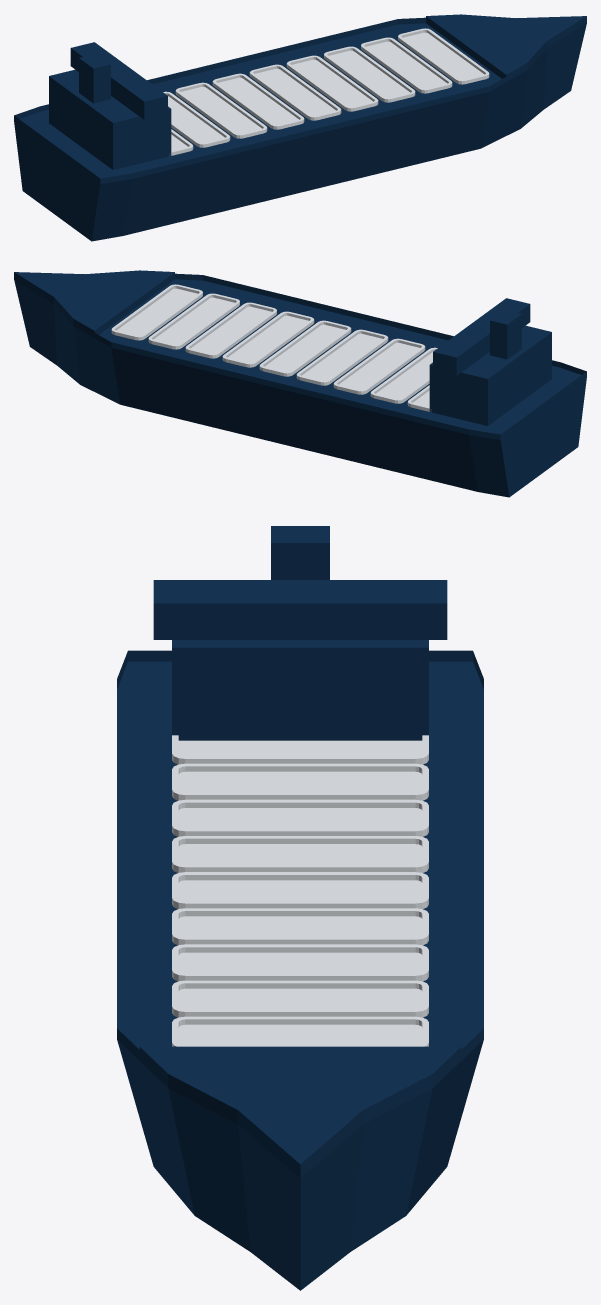
Rendered from vessel-hold-09.glb.
3 views of the same model, one above another, from view 1: azimuth 30°, elevation 25°; view 2: azimuth 150°, elevation 25°; view 3: azimuth 270°, elevation 25° (orthographic). The views are drawn at different scales.
Visible parts, largest first — view 1: hull, superstructure, detail_forecastle, detail_bulwark, hold_05, hold_04, hold_06, hold_07, hold_01, hold_03, hold_02, hold_08 (+2 smaller); view 2: hull, superstructure, detail_forecastle, detail_bulwark, hold_05, hold_04, hold_06, hold_07, hold_01, hold_03, hold_02, hold_08 (+2 smaller); view 3: hull, superstructure, detail_forecastle, hold_03, hold_04, hold_05, hold_02, hold_07, hold_08, hold_06, hold_01, hold_09 (+2 smaller).
Boxes of the visible parts, x1=… form: hull: x1=14, y1=23, x2=586, y2=241; superstructure: x1=49, y1=42, x2=171, y2=169; detail_forecastle: x1=426, y1=14, x2=586, y2=81; detail_bulwark: x1=14, y1=17, x2=586, y2=183; hold_05: x1=249, y1=64, x2=341, y2=120; hold_04: x1=286, y1=55, x2=378, y2=111; hold_06: x1=212, y1=73, x2=304, y2=129; hold_07: x1=175, y1=82, x2=267, y2=138; hold_01: x1=398, y1=28, x2=489, y2=84; hold_03: x1=324, y1=46, x2=415, y2=102; hold_02: x1=361, y1=37, x2=452, y2=93; hold_08: x1=163, y1=91, x2=230, y2=147; hull: x1=14, y1=279, x2=586, y2=497; superstructure: x1=429, y1=298, x2=551, y2=425; detail_forecastle: x1=14, y1=270, x2=174, y2=337; detail_bulwark: x1=14, y1=273, x2=586, y2=439; hold_05: x1=259, y1=320, x2=351, y2=376; hold_04: x1=222, y1=311, x2=314, y2=367; hold_06: x1=296, y1=329, x2=388, y2=385; hold_07: x1=333, y1=338, x2=425, y2=394; hold_01: x1=111, y1=284, x2=202, y2=340; hold_03: x1=185, y1=302, x2=276, y2=358; hold_02: x1=148, y1=293, x2=239, y2=349; hold_08: x1=370, y1=347, x2=437, y2=403; hull: x1=117, y1=661, x2=483, y2=1290; superstructure: x1=153, y1=580, x2=447, y2=740; detail_forecastle: x1=139, y1=1046, x2=461, y2=1176; hold_03: x1=172, y1=944, x2=428, y2=981; hold_04: x1=172, y1=908, x2=428, y2=945; hold_05: x1=172, y1=872, x2=428, y2=908; hold_02: x1=172, y1=980, x2=428, y2=1017; hold_07: x1=172, y1=799, x2=428, y2=836; hold_08: x1=172, y1=763, x2=428, y2=800; hold_06: x1=172, y1=836, x2=428, y2=872; hold_01: x1=172, y1=1016, x2=428, y2=1046; hold_09: x1=172, y1=735, x2=428, y2=764.
Bounding box in the file's own units: 10 × 2.63 × 3.
